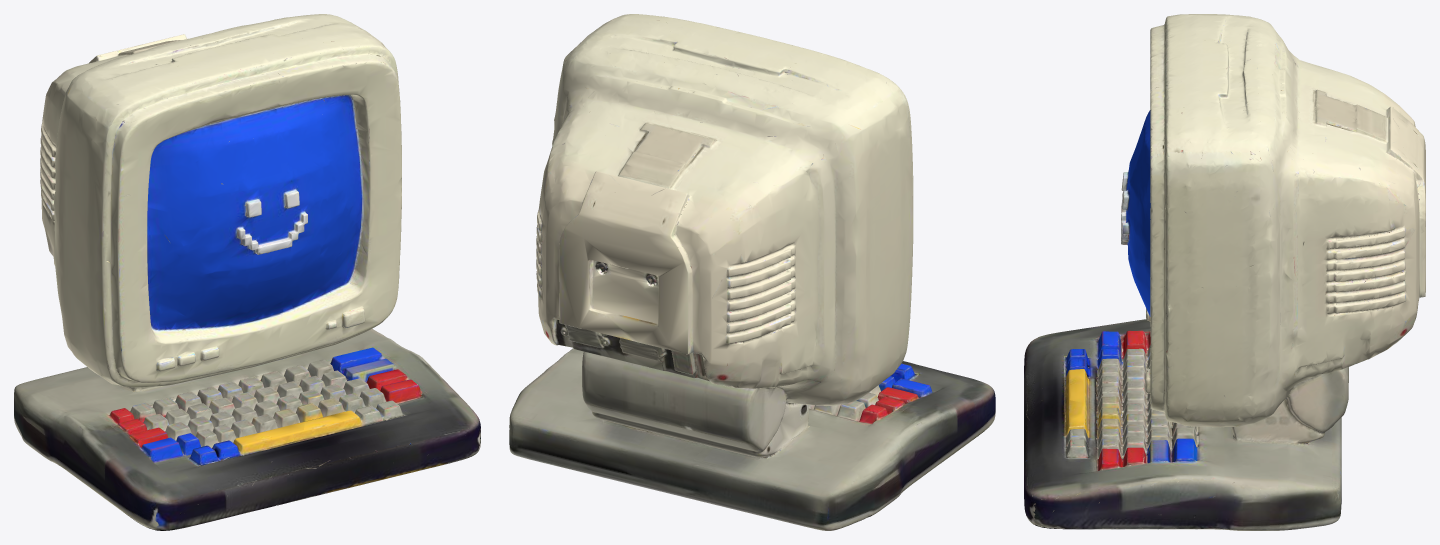
File: computer_meshy6.glb
3 renders of one model, left to right at view 1: azimuth 30°, elevation 25°; view 2: azimuth 150°, elevation 25°; view 3: azimuth 270°, elevation 25°, orthographic. The views are drawn at different scales.
Parts seen in each view (by area): view 1: Mesh1.0; view 2: Mesh1.0; view 3: Mesh1.0.
Part boxes in pixels (box(x1,y1,x2,y2)): Mesh1.0: box(14, 14, 480, 530); Mesh1.0: box(509, 14, 995, 530); Mesh1.0: box(1024, 14, 1425, 530).
Bounding box in the file's own units: 1.8 × 1.91 × 1.81.
Materials: 1 (1 with a texture image).
